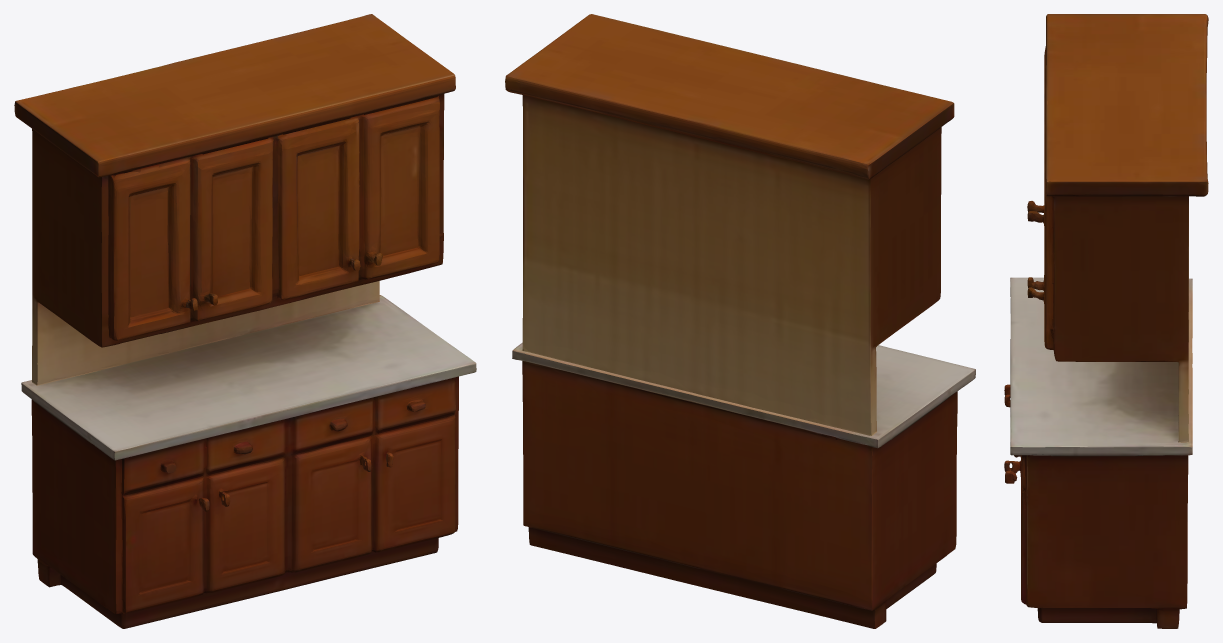
File: cabinets.glb
3 renders of one model, left to right at view 1: azimuth 30°, elevation 25°; view 2: azimuth 150°, elevation 25°; view 3: azimuth 270°, elevation 25°, orthographic. The views are drawn at different scales.
Visible parts, largest first — view 1: world; view 2: world; view 3: world.
Part boxes in pixels (x1=…): world: x1=14, y1=14, x2=476, y2=628; world: x1=505, y1=14, x2=975, y2=628; world: x1=1004, y1=14, x2=1208, y2=628.
Size of the model in its own units: 0.8061 by 1 by 0.41.
Materials: 1 (1 with a texture image).
